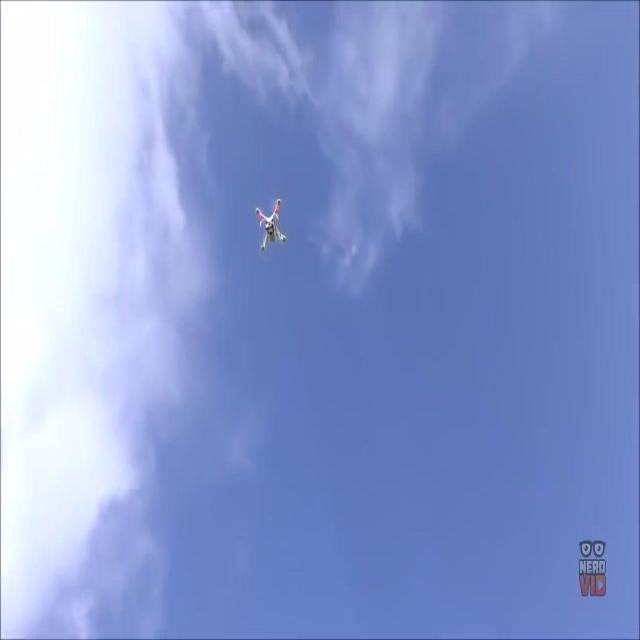drone: (255, 194, 286, 258)
